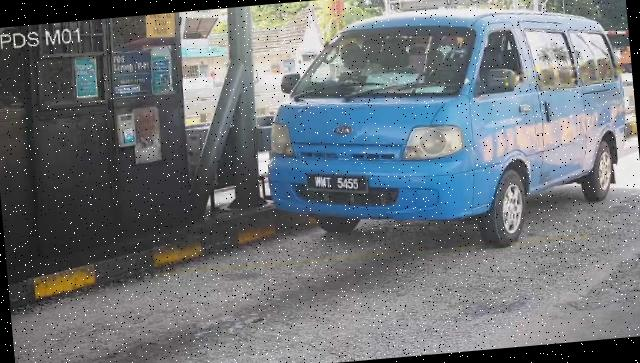License_Plate: (305, 168, 371, 202)
van: (257, 1, 637, 266)
